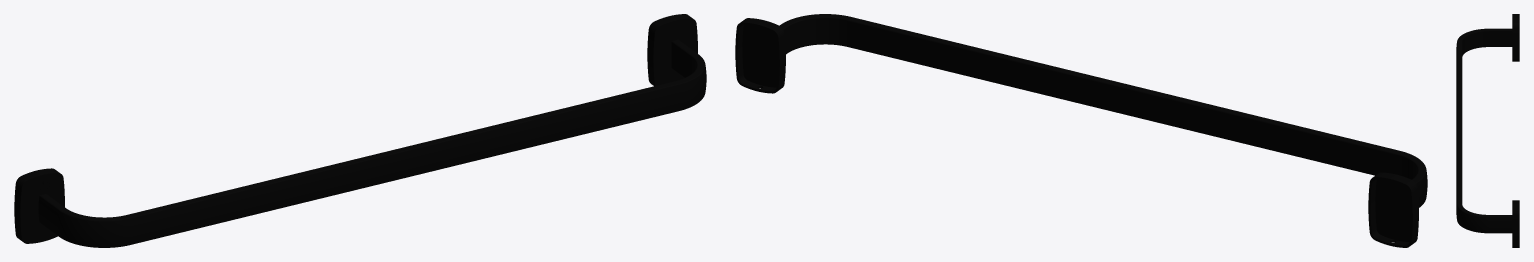
Rendered from 37TBR007GM-.glb.
3 views of the same model, side by side, from view 1: azimuth 30°, elevation 25°; view 2: azimuth 150°, elevation 25°; view 3: azimuth 270°, elevation 25° (orthographic). The views are drawn at different scales.
Visible parts, largest first — view 1: node_id6; view 2: node_id6; view 3: node_id6.
Part boxes in pixels (box(x1,y1,x2,y2)): node_id6: box(14, 14, 706, 247); node_id6: box(735, 14, 1427, 247); node_id6: box(1456, 14, 1519, 247).
Size of the model in its own units: 0.6217 by 0.0586 by 0.0833.
1 material, 1 textured.
